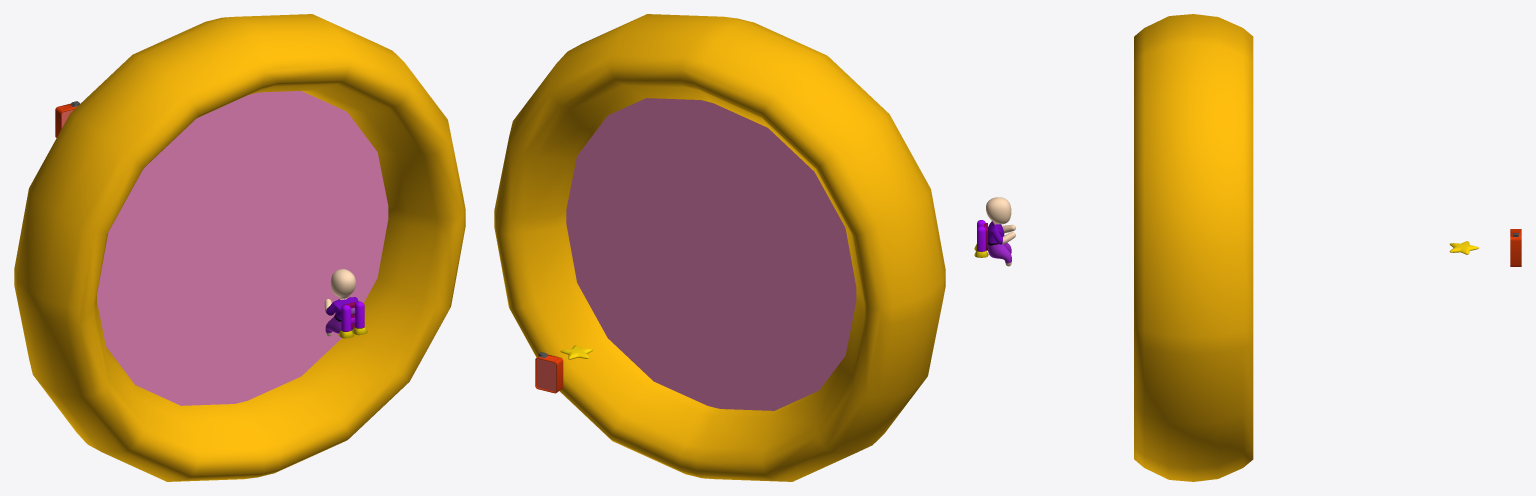
The model's file is luckyJet.fbx.
3 views of the same model, side by side, from view 1: azimuth 30°, elevation 25°; view 2: azimuth 150°, elevation 25°; view 3: azimuth 270°, elevation 25° (orthographic). The views are drawn at different scales.
Parts seen in each view (by area): view 1: Куб, Куб.001, Cube, Куб.003; view 2: Куб, Куб.001, Куб.002; view 3: Куб, Cube.
Boxes of the visible parts, box(x1,y1,x2,y2) form: Куб: box(14, 14, 465, 481); Куб.001: box(97, 91, 388, 405); Cube: box(324, 269, 358, 336); Куб.003: box(338, 301, 367, 338); Куб: box(494, 14, 945, 481); Куб.001: box(566, 98, 856, 410); Куб.002: box(535, 352, 563, 393); Куб: box(1134, 14, 1253, 481); Cube: box(986, 197, 1015, 266).
Size of the model in its own units: 3841 by 3841 by 4547.
